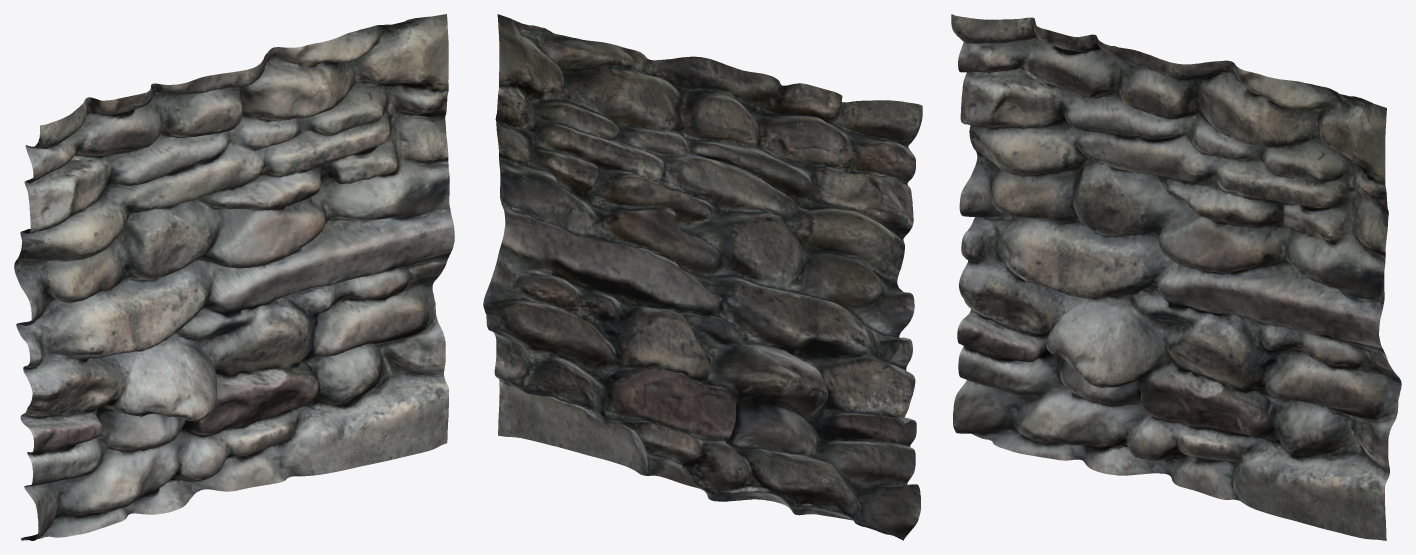
Rendered from Normal-Cobblestone.fbx.
The picture shows the model from 3 angles, left to right: view 1: azimuth 30°, elevation 25°; view 2: azimuth 150°, elevation 25°; view 3: azimuth 330°, elevation 25°; orthographic projection. The views are drawn at different scales.
Visible parts, largest first — view 1: mesh; view 2: mesh; view 3: mesh.
Part boxes in pixels (x1,y1,x2,y2): mesh: (14,14,454,540); mesh: (483,14,922,540); mesh: (951,14,1401,540).
Size of the model in its own units: 0.7221 by 0.7053 by 0.1156.
Materials: 1 (1 with a texture image).
